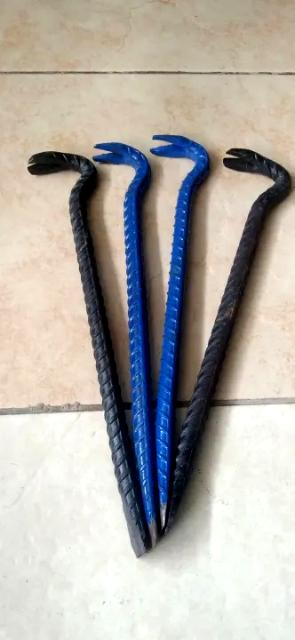crow bar: (25, 150, 154, 570), (172, 144, 295, 519), (93, 127, 164, 553), (153, 127, 216, 514)
